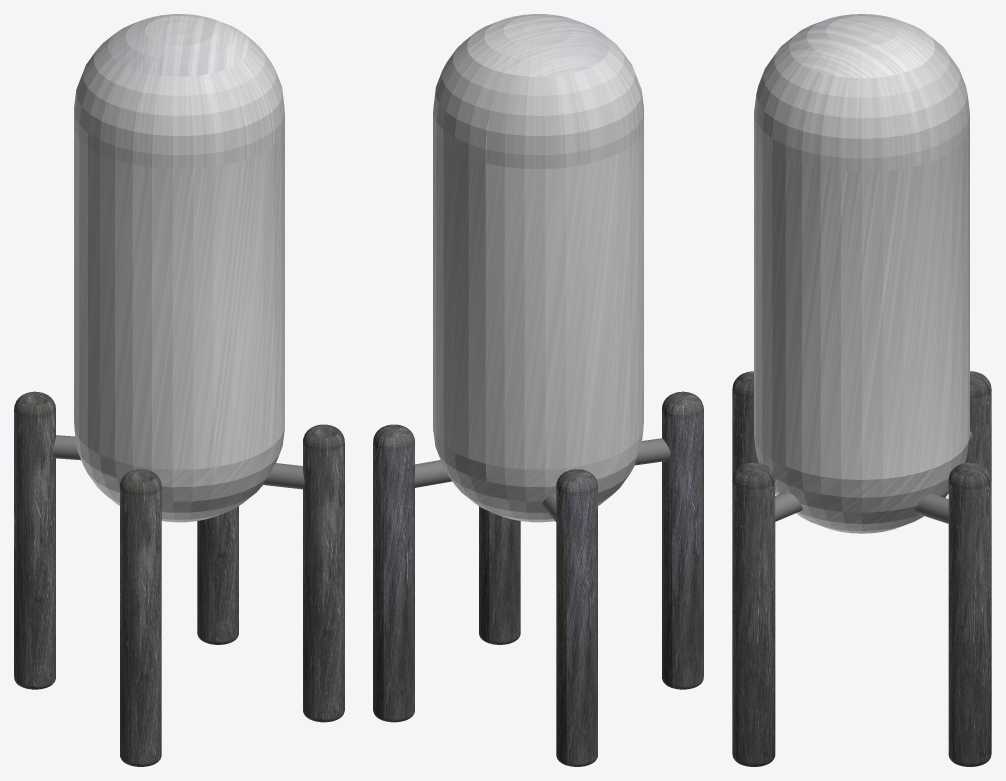
3 renders of one model, left to right at view 1: azimuth 30°, elevation 25°; view 2: azimuth 150°, elevation 25°; view 3: azimuth 270°, elevation 25°, orthographic. The views are drawn at different scales.
Visible parts, largest first — view 1: Цилиндр.006_Цилиндр.008; view 2: Цилиндр.006_Цилиндр.008; view 3: Цилиндр.006_Цилиндр.008.
Boxes of the visible parts, left/top/right/bottom form: Цилиндр.006_Цилиндр.008: left=14, top=14, right=344, bottom=766; Цилиндр.006_Цилиндр.008: left=373, top=14, right=703, bottom=766; Цилиндр.006_Цилиндр.008: left=732, top=14, right=991, bottom=766.
Bounding box in the file's own units: 2.4 × 7 × 2.4.
